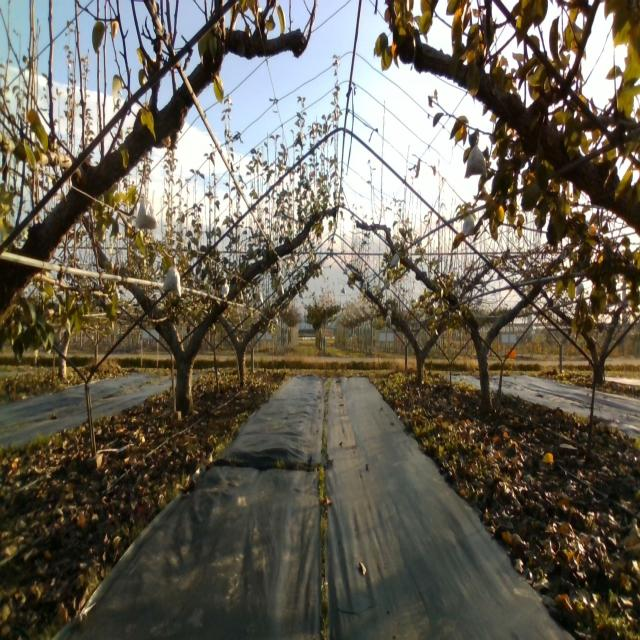pearbags: (464, 134, 488, 178), (135, 197, 159, 235), (162, 255, 182, 297), (462, 215, 476, 237)
